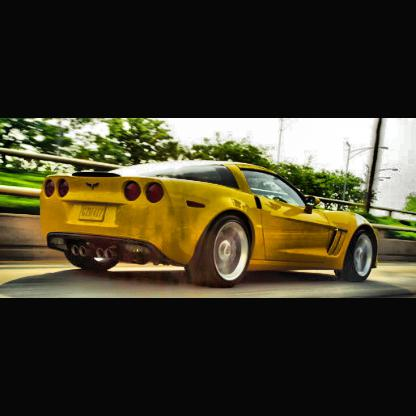Chevrolet Corvette Convertible 2012: (42, 159, 381, 286)
